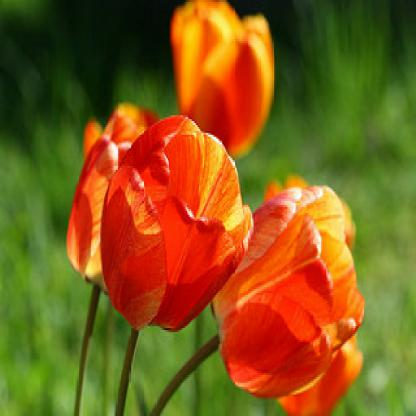TULIP: (69, 5, 353, 399)
